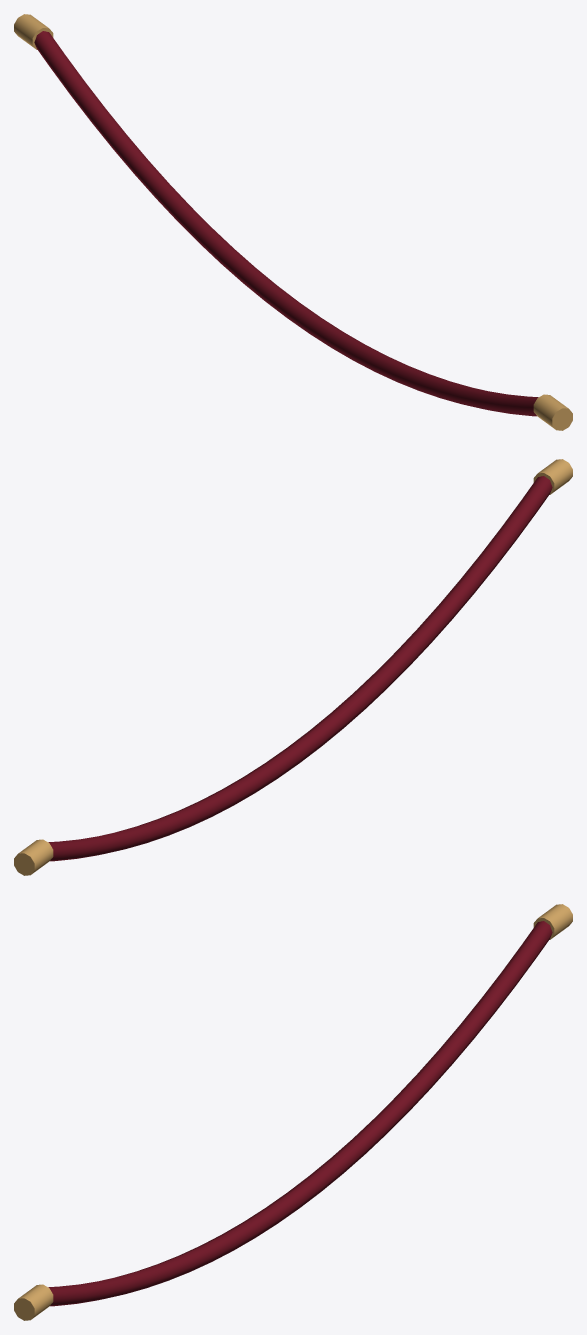
File: rope_velvet.glb
3 renders of one model, top to bottom at view 1: azimuth 30°, elevation 25°; view 2: azimuth 150°, elevation 25°; view 3: azimuth 330°, elevation 25°, orthographic.
Visible parts, largest first — view 1: Mesh_Rope, Mesh_Snap1, Mesh_Snap-1; view 2: Mesh_Rope, Mesh_Snap-1, Mesh_Snap1; view 3: Mesh_Rope, Mesh_Snap1, Mesh_Snap-1.
Boxes of the visible parts, box(x1,y1,x2,y2) form: Mesh_Rope: box(34, 31, 538, 416); Mesh_Snap1: box(533, 394, 572, 430); Mesh_Snap-1: box(14, 14, 53, 49); Mesh_Rope: box(48, 476, 552, 861); Mesh_Snap-1: box(14, 839, 53, 875); Mesh_Snap1: box(533, 459, 572, 494); Mesh_Rope: box(48, 921, 552, 1306); Mesh_Snap1: box(14, 1284, 53, 1320); Mesh_Snap-1: box(533, 904, 572, 939).
Size of the model in its own units: 0.038 by 0.191 by 1.72.
